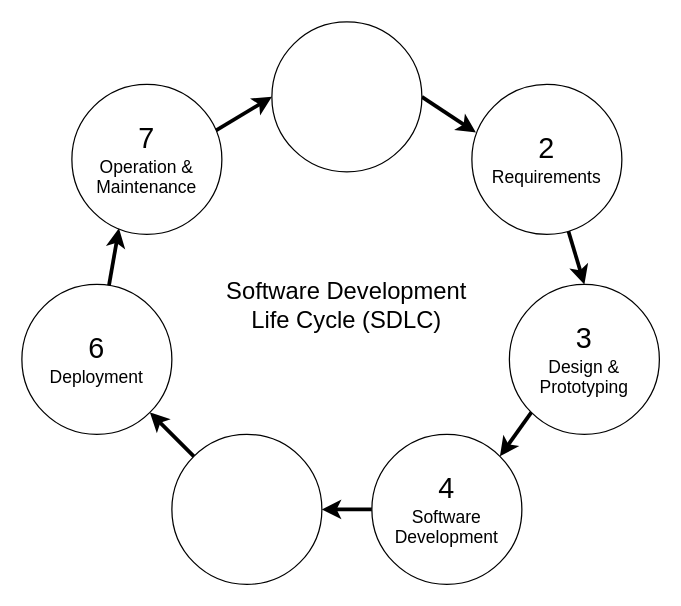
This 681x606 diagram has some shape labels left out. The centre of each missing label's shape, as x and y in pixels:
1 Planning: [346,96]
5 Testing: [246,508]
